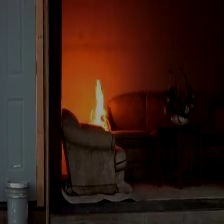fire: (83, 74, 112, 119)
